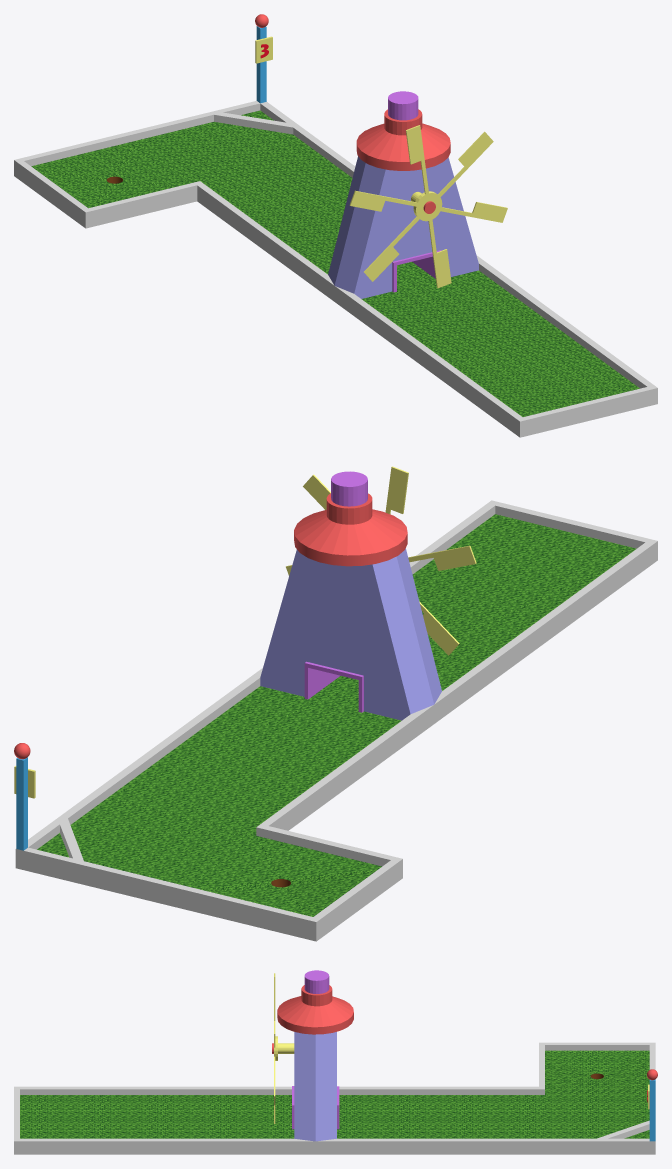
The picture shows the model from 3 angles, top to bottom: view 1: azimuth 30°, elevation 25°; view 2: azimuth 150°, elevation 25°; view 3: azimuth 270°, elevation 25°; orthographic projection. The views are drawn at different scales.
Visible parts, largest first — view 1: Material2.003, Material3.004, Material2.002, Material2.001, Material3, Material3.001; view 2: Material2.003, Material3.004, Material2.002, Material3, Material2.001, Material3.001, Material2; view 3: Material2.003, Material3.004, Material2.002, Material3, Material3.001, Material2.001, Material2.
Part boxes in pixels (x1,y1,x2,y2): Material2.003: (31, 110, 639, 416); Material3.004: (14, 101, 657, 437); Material2.002: (328, 156, 478, 298); Material2.001: (255, 36, 507, 288); Material3: (255, 14, 450, 213); Material3.001: (388, 91, 441, 292); Material2.003: (37, 514, 636, 916); Material3.004: (15, 500, 657, 941); Material2.002: (260, 548, 441, 720); Material3: (14, 493, 407, 759); Material2.001: (14, 466, 476, 798); Material3.001: (304, 471, 367, 712); Material2: (16, 757, 27, 850); Material2.003: (20, 1050, 649, 1138); Material3.004: (14, 1042, 655, 1154); Material2.002: (294, 1032, 336, 1141); Material3: (272, 985, 657, 1080); Material3.001: (292, 970, 339, 1129); Material2.001: (274, 973, 649, 1123); Material2: (649, 1079, 655, 1141).
Size of the model in its own units: 14.88 by 10.57 by 39.36.
Materials: 9 (1 with a texture image).
